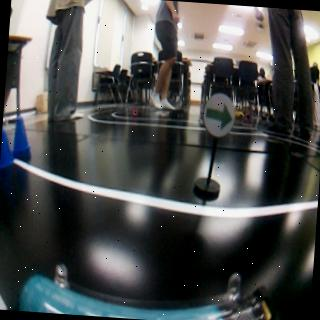right: (201, 94, 231, 136)
